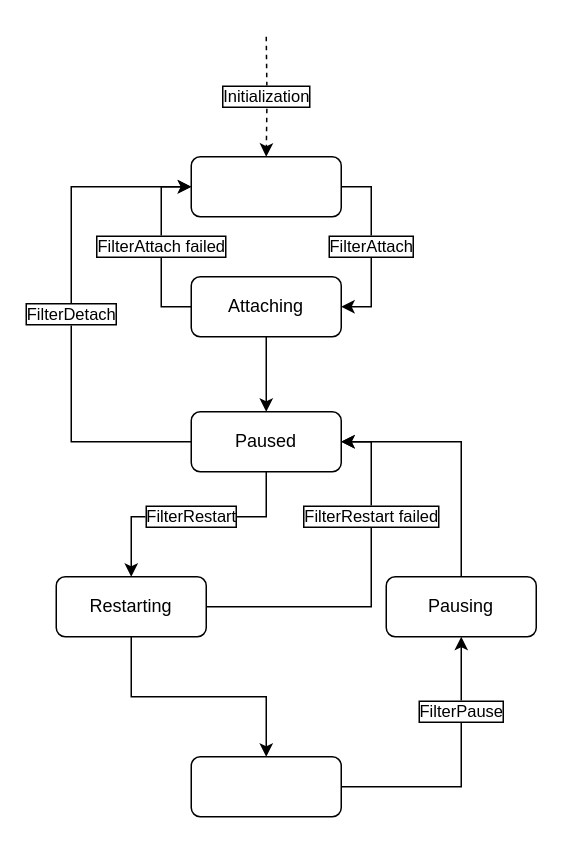
This 563x843 diagram has some shape labels left out. Each missing label, with the centre of its shape:
Detached: point 265,186
Running: point 265,786
